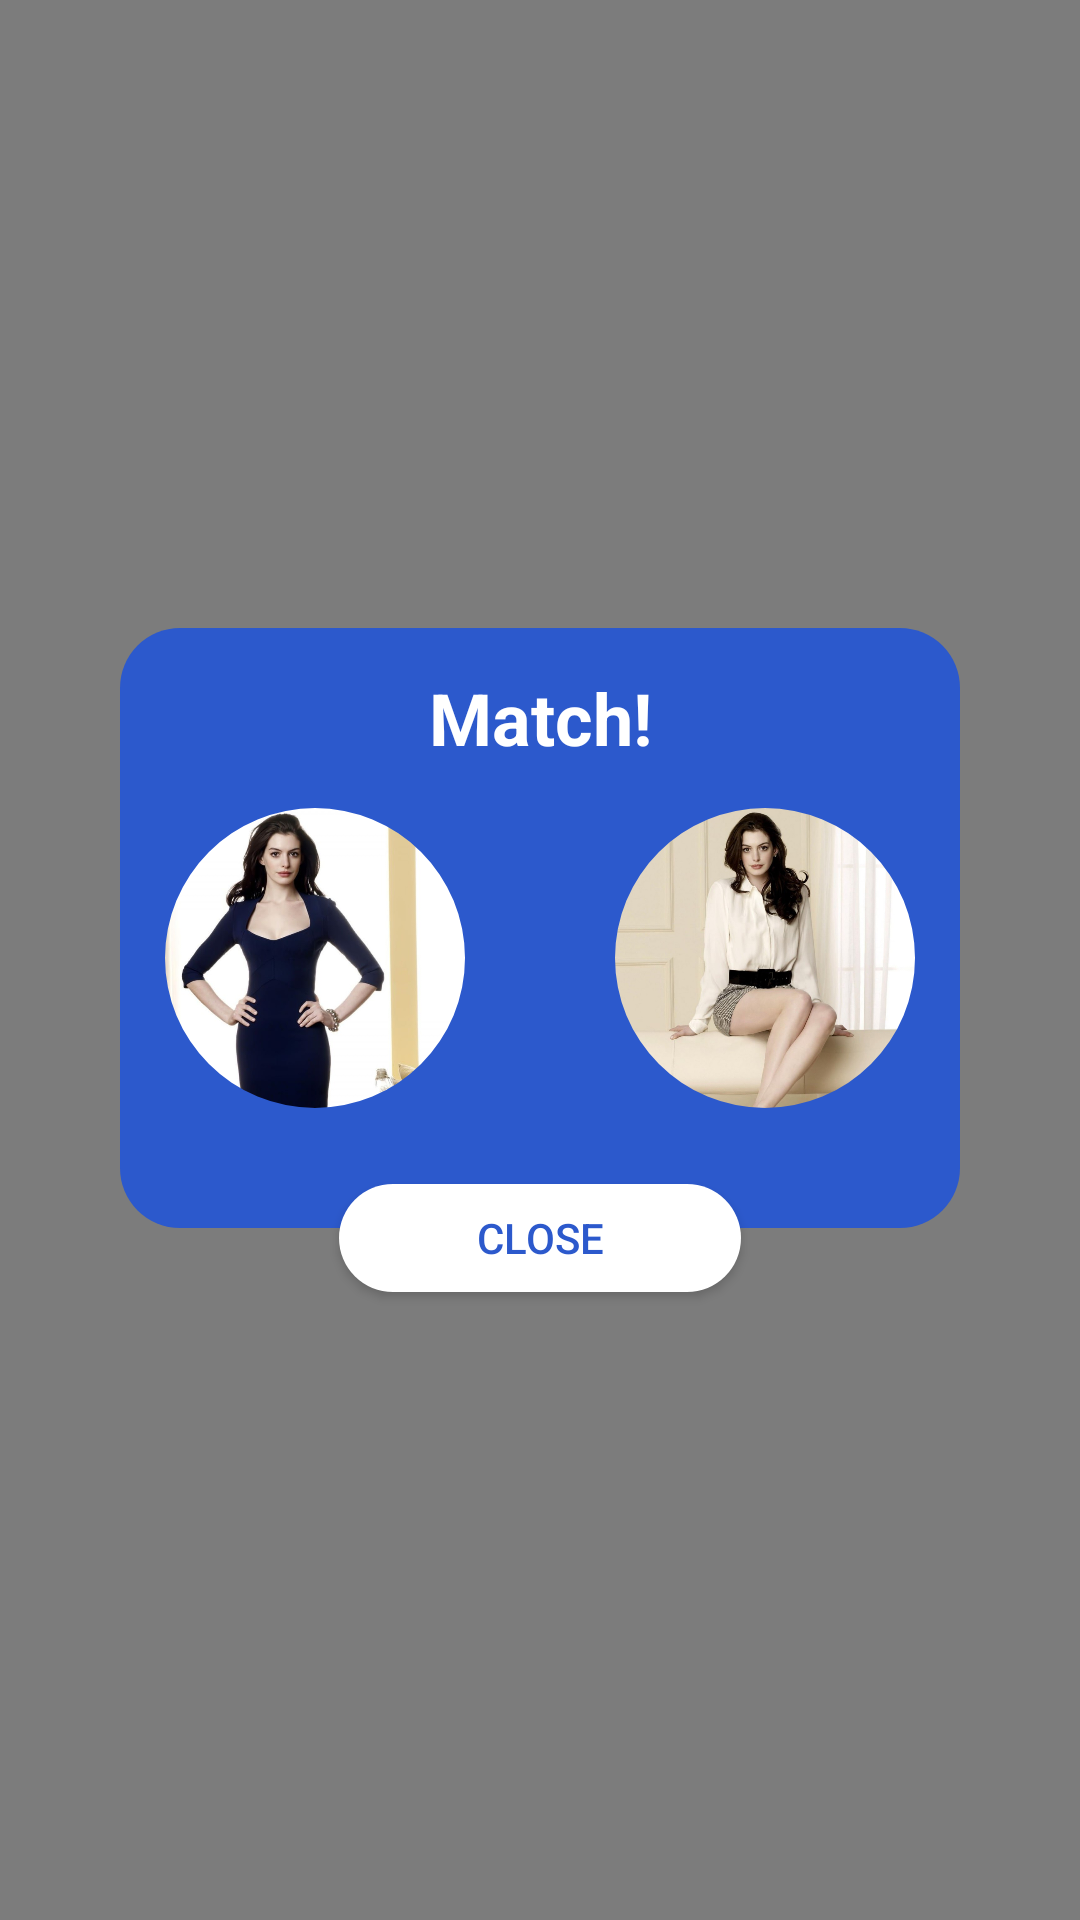

Locate icon controls on the screen. Image size 1080 × 1920, boxes as box(x1, y1, x2, y2).
photo: box(165, 808, 465, 1108), box(615, 808, 915, 1108)
